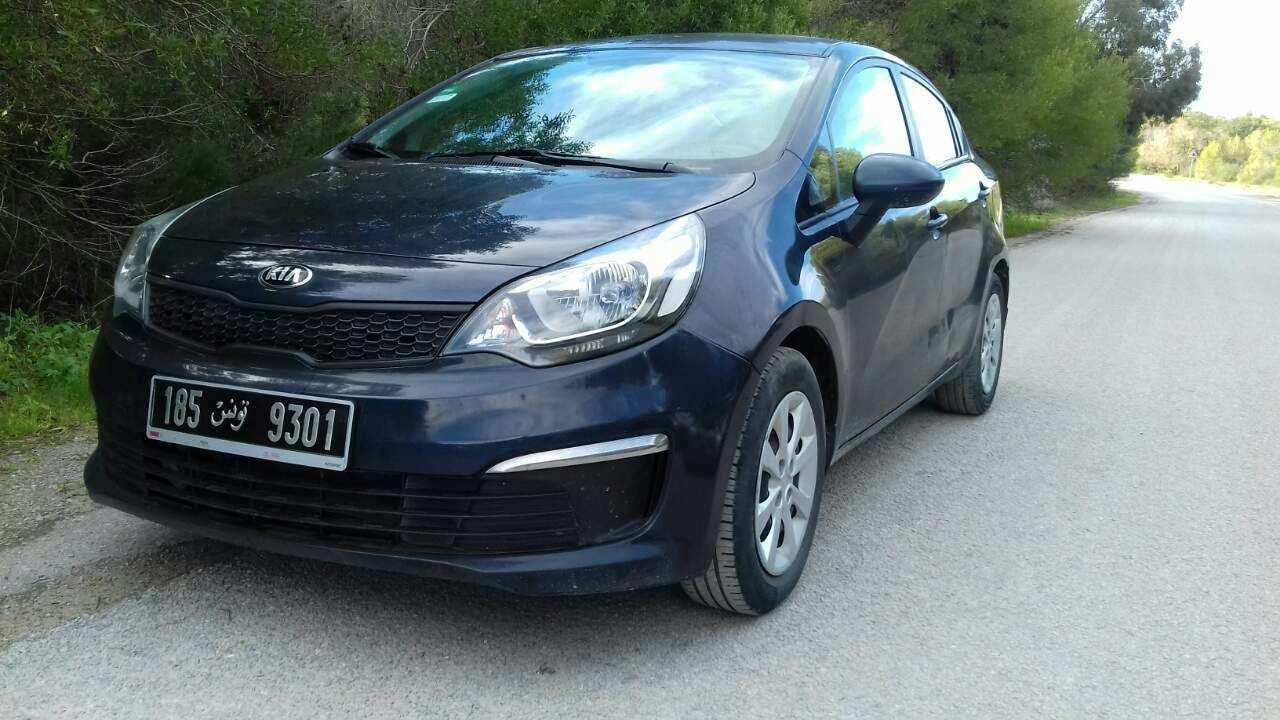LP: (149, 372, 349, 470)
